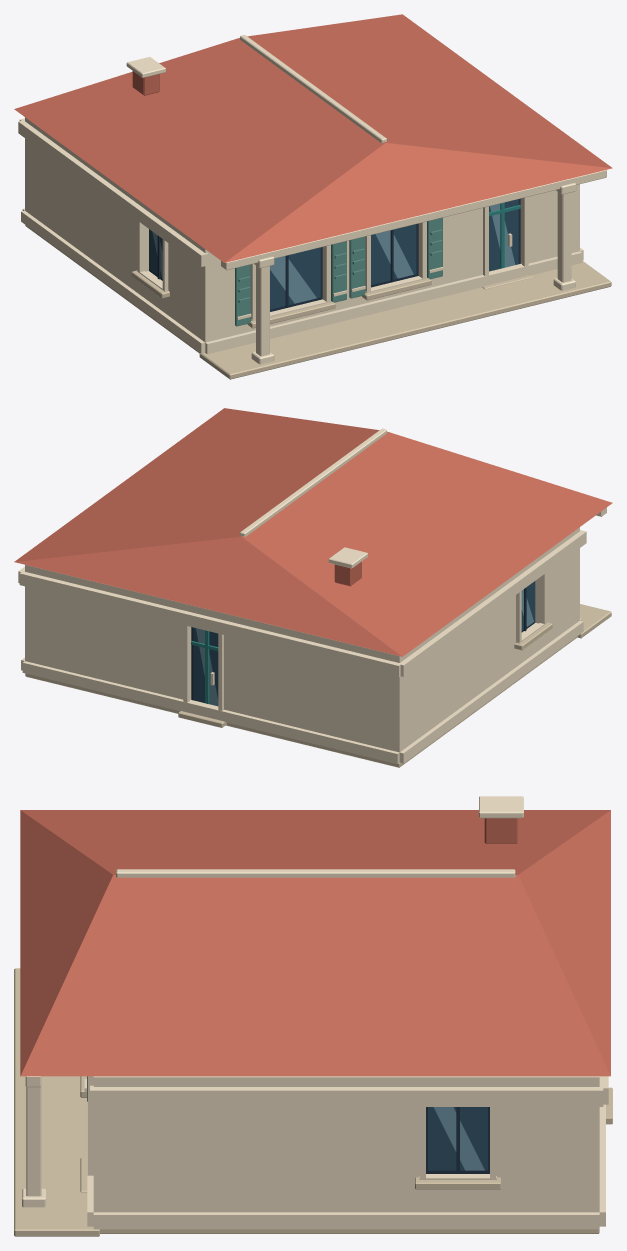
The model's file is tile_roof_bungalow.glb.
3 views of the same model, one above another, from view 1: azimuth 30°, elevation 25°; view 2: azimuth 150°, elevation 25°; view 3: azimuth 270°, elevation 25° (orthographic). The views are drawn at different scales.
Visible parts, largest first — view 1: TileRoofBungalow_StaticMesh; view 2: TileRoofBungalow_StaticMesh; view 3: TileRoofBungalow_StaticMesh.
Boxes of the visible parts, x1,y1,x2,y2 form: TileRoofBungalow_StaticMesh: (14,14,612,379); TileRoofBungalow_StaticMesh: (14,408,612,767); TileRoofBungalow_StaticMesh: (14,796,612,1236).
Size of the model in its own units: 11.27 by 4.62 by 10.65.
